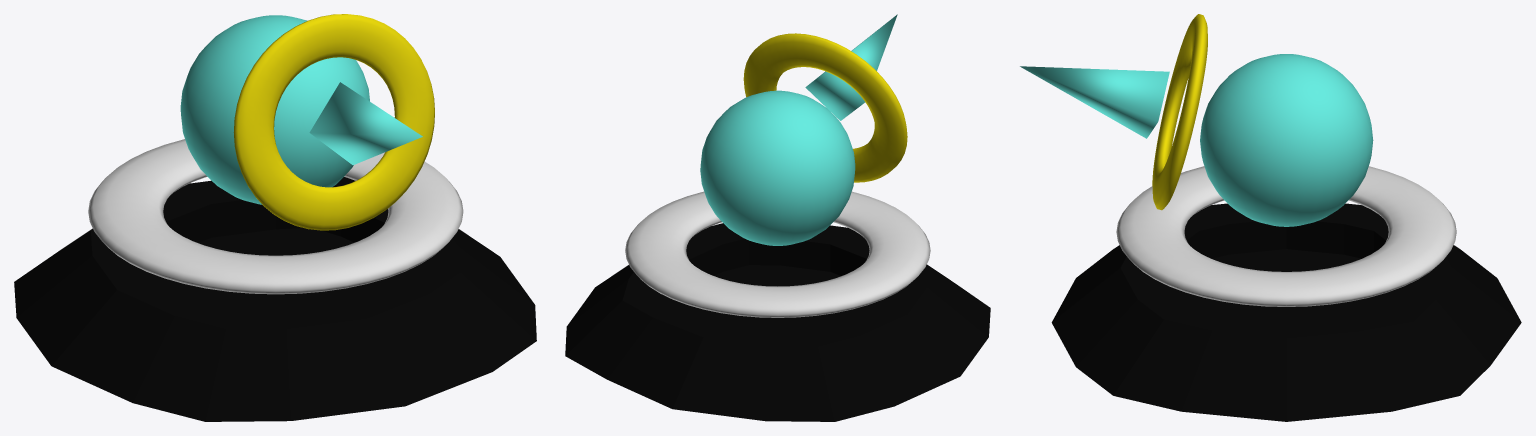
Rendered from Cañon electrico.fbx.
The picture shows the model from 3 angles, left to right: view 1: azimuth 30°, elevation 25°; view 2: azimuth 150°, elevation 25°; view 3: azimuth 270°, elevation 25°; orthographic projection. The views are drawn at different scales.
Parts seen in each view (by area): view 1: Cube.001, Cube; view 2: Cube.001, Cube; view 3: Cube.001, Cube.
Boxes of the visible parts, <box> form: Cube.001: <box>14,139,536,421</box>; Cube: <box>180,14,434,230</box>; Cube.001: <box>565,191,990,421</box>; Cube: <box>700,14,907,245</box>; Cube.001: <box>1051,166,1521,421</box>; Cube: <box>1020,14,1373,226</box>.
Bounding box in the file's own units: 248 × 174 × 265.
